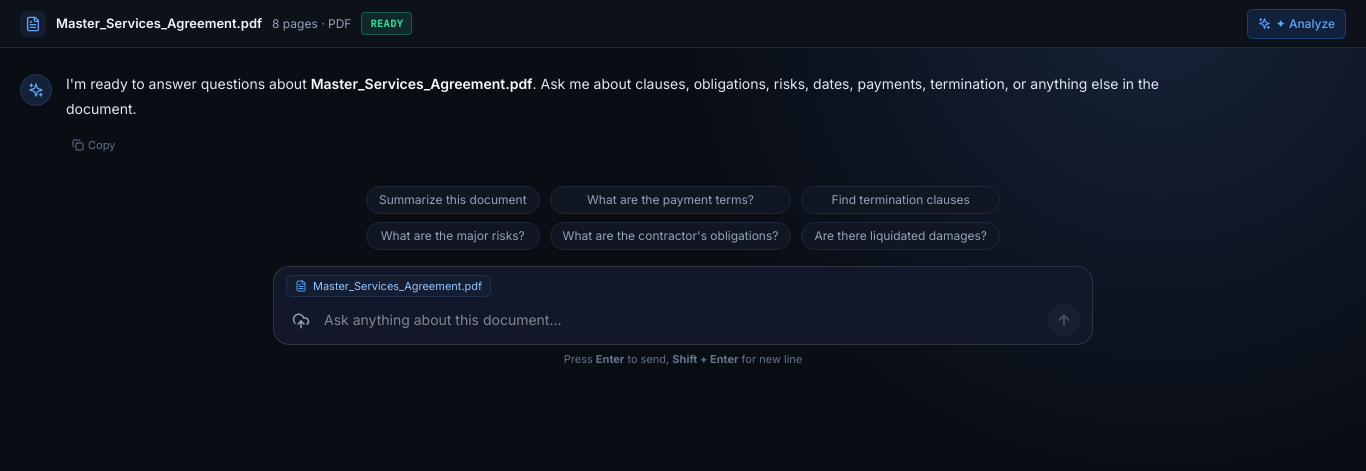
Scenario: ChatWorkspace - Stop AI Request & Lifecycle Integration › TEST 2: Click suggestion chip -> ↑ -> ■, click Stop -> stops AI request, preserves user message, re-enables input
# Click chip "Summarize this document"
Click the button "Summarize this document": (453, 200) [366, 186, 540, 214]
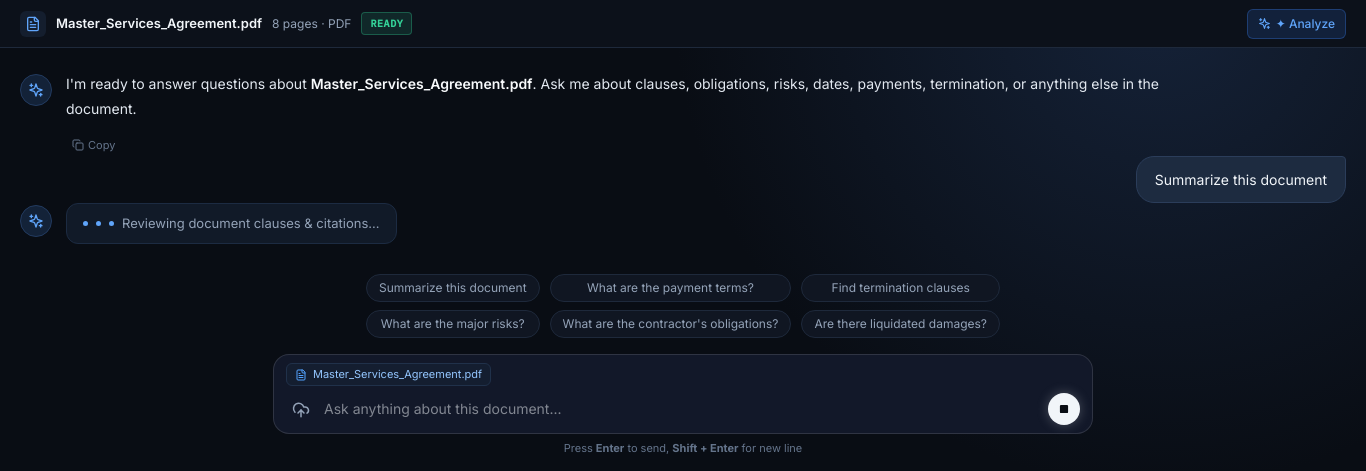
Expected: the 1st text "Summarize this document" is shown, [1155, 168, 1327, 190]
Expected: the button named "Stop generating" is shown
Click the button named "Stop generating": (1064, 409) [1048, 393, 1080, 425]
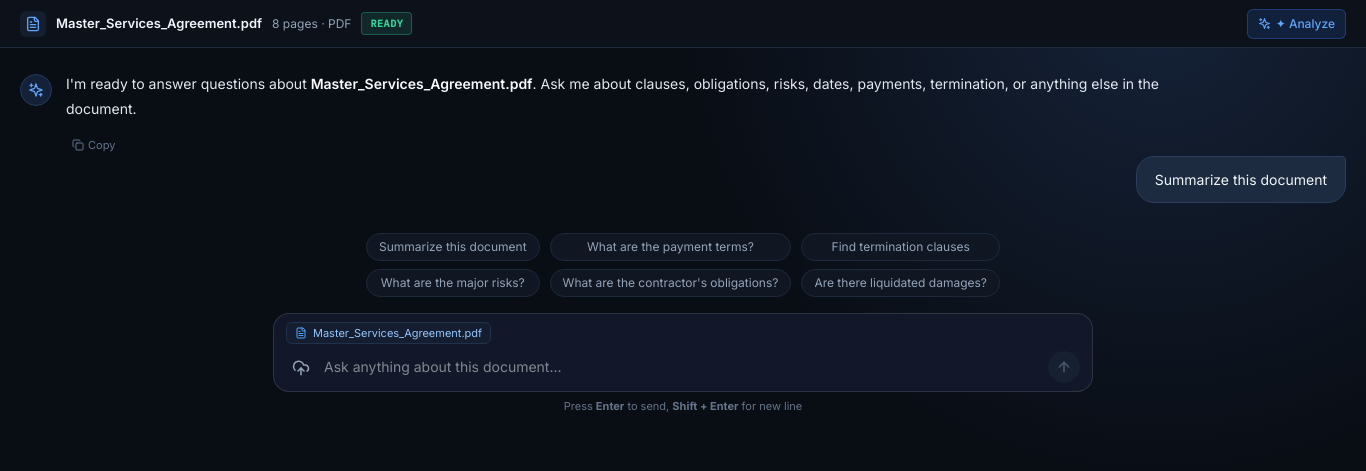
Expected: the 1st text "Summarize this document" is shown, [1155, 168, 1327, 190]
Expected: the button named "Send message" is shown, [1048, 351, 1080, 383]
Expected: the text "Reviewing document clauses" is gone
